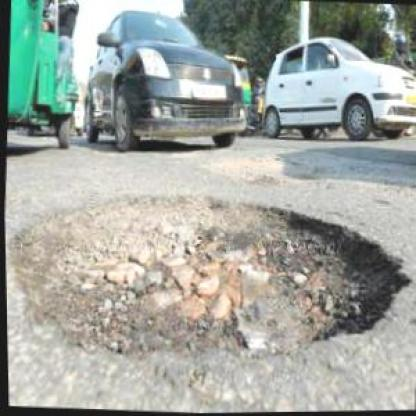pothole: (3, 178, 414, 377), (209, 150, 300, 187)
